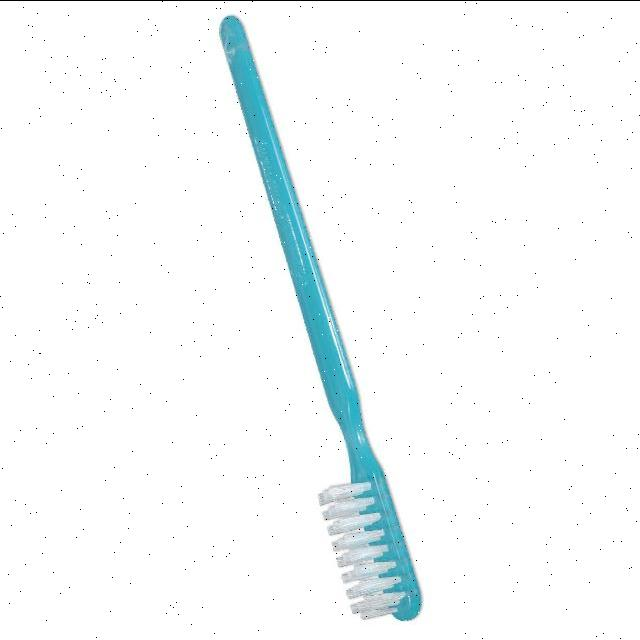toothbrush: (227, 4, 423, 638)
